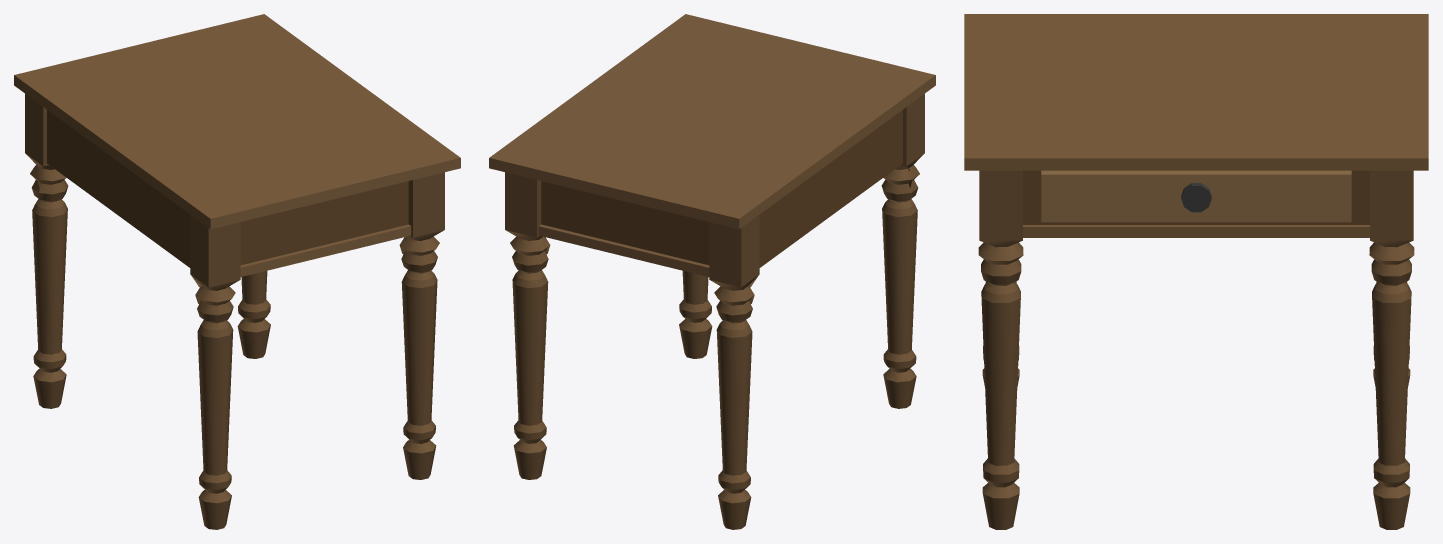
File: SM_Prop_SideTable_02.obj
The picture shows the model from 3 angles, left to right: view 1: azimuth 30°, elevation 25°; view 2: azimuth 150°, elevation 25°; view 3: azimuth 270°, elevation 25°; orthographic projection. The views are drawn at different scales.
Parts seen in each view (by area): view 1: SM_Prop_SideTable_02_Mat_SwatchOverlay_Farm_01_WoodRotated_Inst; view 2: SM_Prop_SideTable_02_Mat_SwatchOverlay_Farm_01_WoodRotated_Inst; view 3: SM_Prop_SideTable_02_Mat_SwatchOverlay_Farm_01_WoodRotated_Inst, SM_Prop_SideTable_02_Mat_SwatchOverlay_Farm_01_Inst.
Boxes of the visible parts, bbox=[...] form: SM_Prop_SideTable_02_Mat_SwatchOverlay_Farm_01_WoodRotated_Inst: bbox=[14, 14, 460, 529]; SM_Prop_SideTable_02_Mat_SwatchOverlay_Farm_01_WoodRotated_Inst: bbox=[489, 14, 935, 529]; SM_Prop_SideTable_02_Mat_SwatchOverlay_Farm_01_WoodRotated_Inst: bbox=[964, 14, 1428, 529]; SM_Prop_SideTable_02_Mat_SwatchOverlay_Farm_01_Inst: bbox=[1181, 183, 1211, 212].
Size of the model in its own units: 0.5242 by 0.636 by 0.7019.
Materials: 2 (2 with a texture image).
